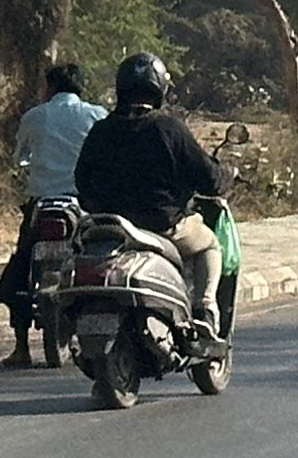BikeWithRider: (48, 45, 253, 412), (0, 57, 116, 376)
Helmet: (109, 47, 177, 117)
NoHelmet: (38, 59, 89, 106)
